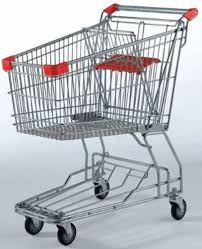with_basket: (9, 2, 193, 243)
